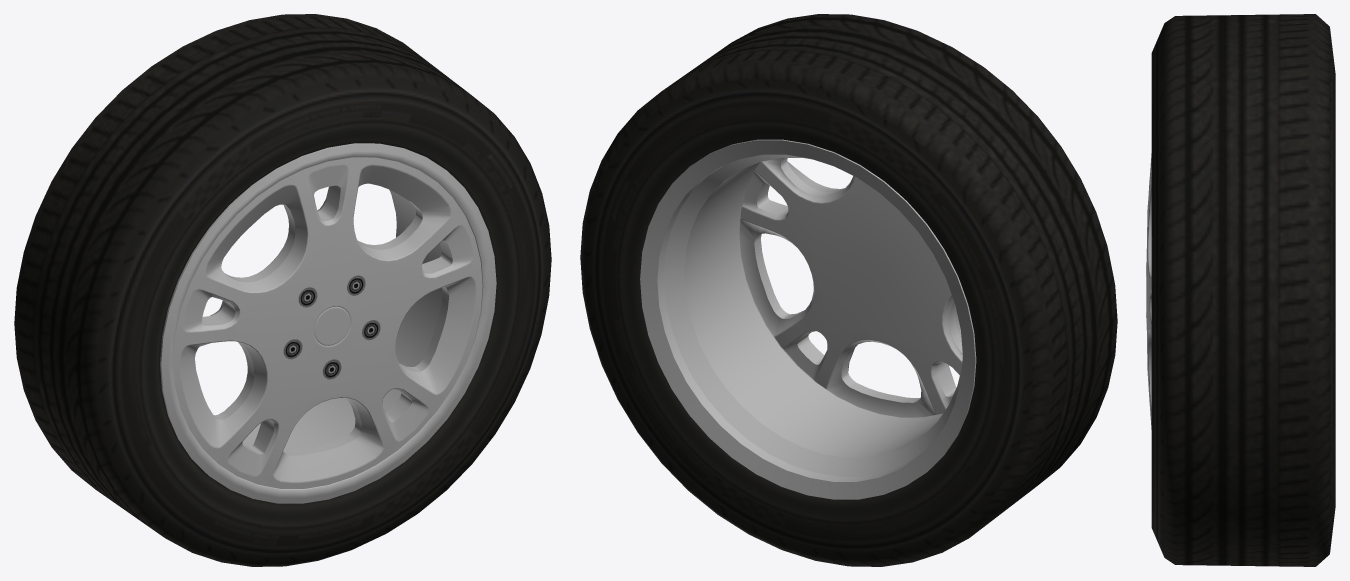
3 views of the same model, side by side, from view 1: azimuth 30°, elevation 25°; view 2: azimuth 150°, elevation 25°; view 3: azimuth 270°, elevation 25° (orthographic).
Parts seen in each view (by area): view 1: P353_20_901B_R_P353_20_901B_R_1_DM, P353_20_901B_R_2_DaS_P353_20_901B_R, P353_20_901B_R_P353_20_901B_R_3_D; view 2: P353_20_901B_R_P353_20_901B_R_1_DM, P353_20_901B_R_2_DaS_P353_20_901B_R; view 3: P353_20_901B_R_P353_20_901B_R_1_DM, P353_20_901B_R_2_DaS_P353_20_901B_R.
Boxes of the visible parts, x1,y1,x2,y2 form: P353_20_901B_R_P353_20_901B_R_1_DM: [14, 14, 551, 566]; P353_20_901B_R_2_DaS_P353_20_901B_R: [160, 143, 496, 503]; P353_20_901B_R_P353_20_901B_R_3_D: [283, 275, 380, 379]; P353_20_901B_R_P353_20_901B_R_1_DM: [580, 14, 1117, 566]; P353_20_901B_R_2_DaS_P353_20_901B_R: [640, 139, 976, 499]; P353_20_901B_R_P353_20_901B_R_1_DM: [1151, 14, 1335, 566]; P353_20_901B_R_2_DaS_P353_20_901B_R: [1146, 153, 1151, 429].
Size of the model in its own units: 70.07 by 70.07 by 23.98.
